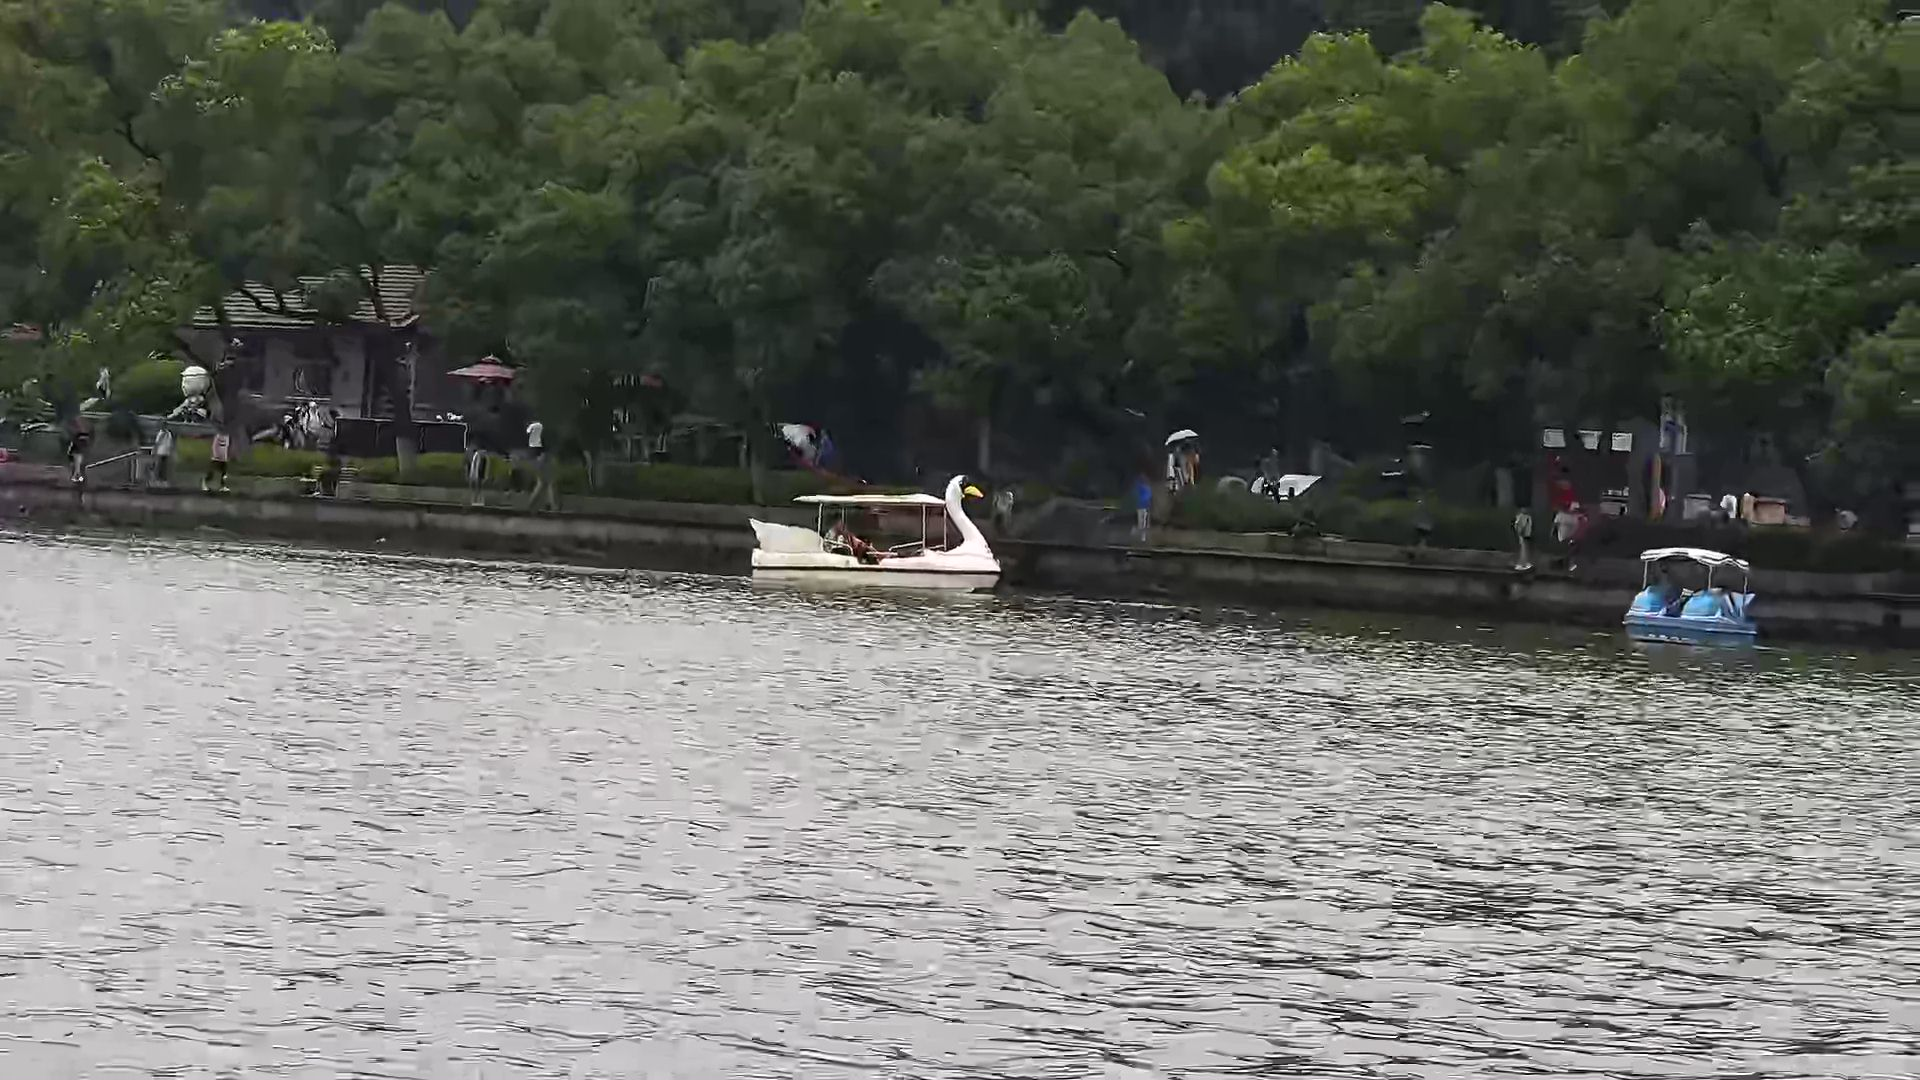boat: (737, 473, 1001, 585), (1610, 539, 1760, 650)
